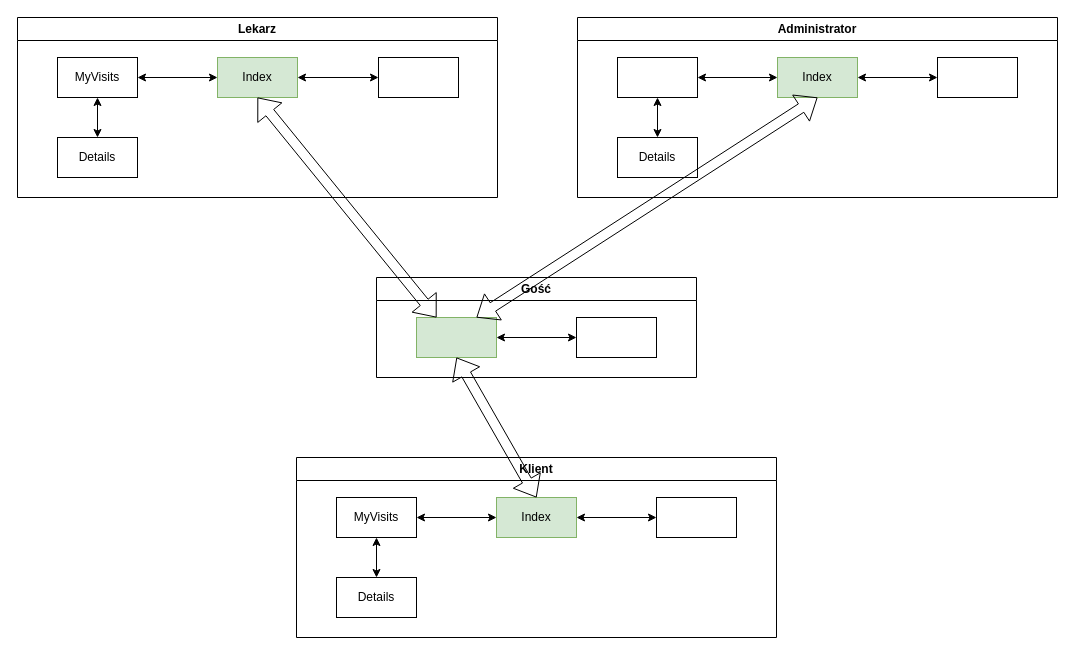
Some shapes in this 1075 by 655 pixel diagram are drawn without their labels. The shapes that lost their labels are listed below. From the top down, each one's centre as x and y in pixels, then its label:
(x=418, y=77): Profile
(x=657, y=77): Users
(x=977, y=77): Specializations
(x=456, y=337): Login
(x=616, y=337): Register
(x=696, y=517): SignUp
